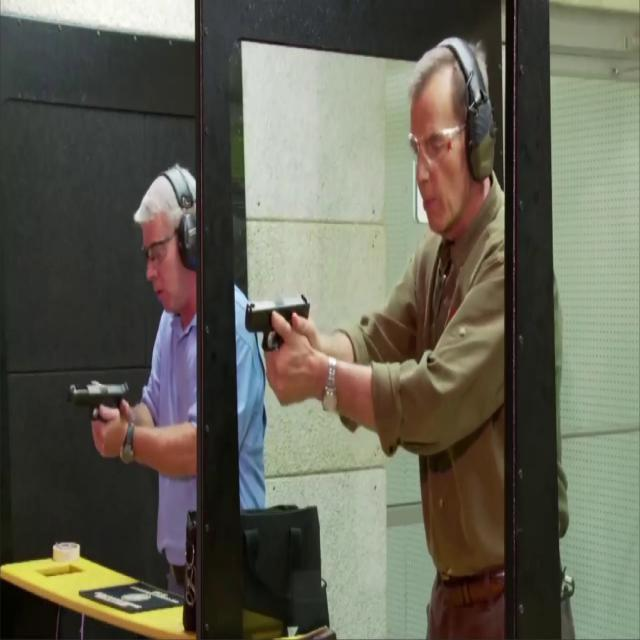weapon: (242, 290, 312, 353), (68, 378, 130, 424)
